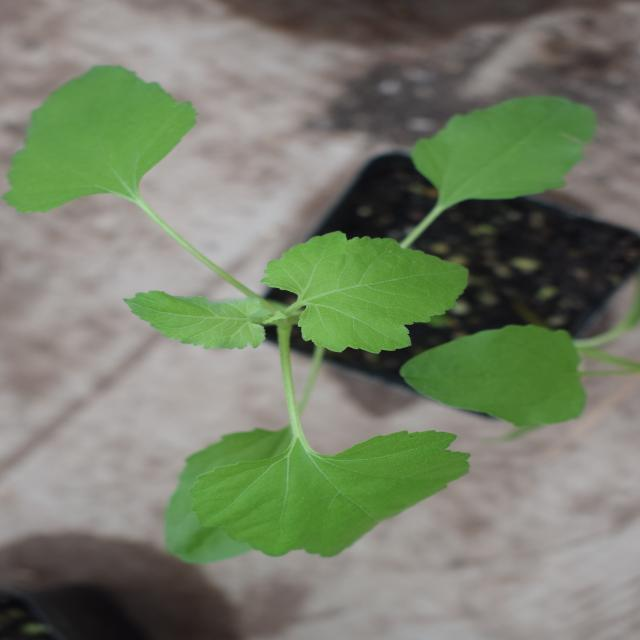cocklebur: (61, 38, 586, 548)
